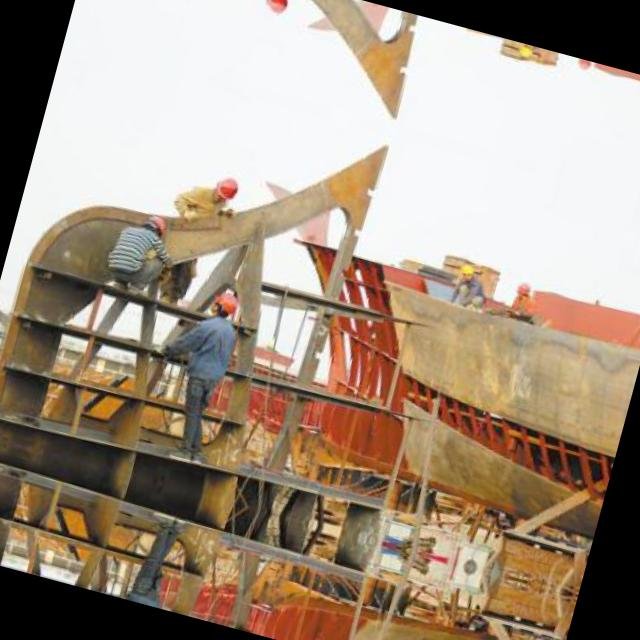helmet: (202, 288, 240, 320), (207, 172, 242, 205), (135, 210, 171, 240), (455, 260, 478, 283), (258, 0, 293, 15), (512, 278, 532, 302), (515, 42, 538, 62), (573, 58, 593, 76)
